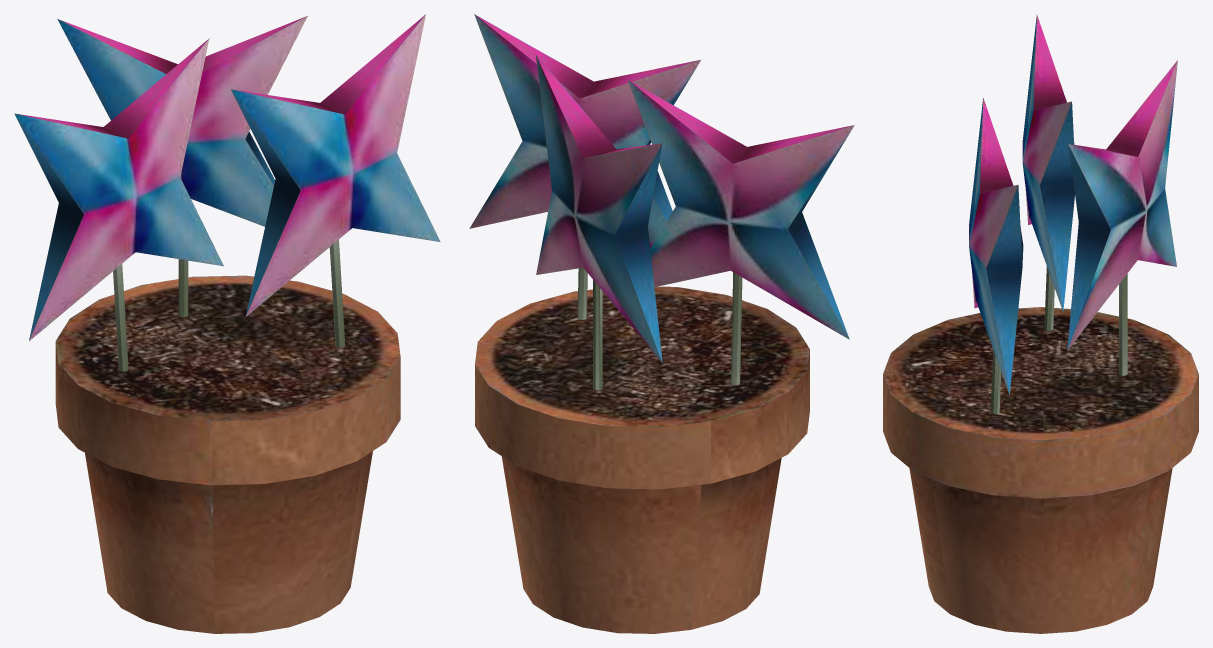
The model's file is clayPot_080505.dae.
The picture shows the model from 3 angles, left to right: view 1: azimuth 30°, elevation 25°; view 2: azimuth 150°, elevation 25°; view 3: azimuth 270°, elevation 25°; orthographic projection. The views are drawn at different scales.
Parts seen in each view (by area): view 1: pCylinder1, pCube3, pCube2, pCube1, pCylinder3, pCylinder4, pCylinder2; view 2: pCylinder1, pCube3, pCube1, pCube2, pCylinder4, pCylinder2; view 3: pCylinder1, pCube1, pCube2, pCube3, pCylinder2, pCylinder4, pCylinder3.
Boxes of the visible parts, x1,y1,x2,y2 form: pCylinder1: (55, 275, 400, 633); pCube3: (14, 38, 223, 340); pCube2: (231, 14, 440, 317); pCube1: (57, 16, 307, 226); pCylinder3: (329, 239, 345, 347); pCylinder4: (113, 264, 128, 371); pCylinder2: (178, 259, 188, 317); pCylinder1: (475, 286, 809, 633); pCube3: (628, 80, 854, 339); pCube1: (536, 55, 662, 363); pCube2: (469, 14, 700, 247); pCylinder4: (731, 272, 742, 385); pCylinder2: (593, 280, 602, 390); pCylinder1: (883, 307, 1198, 633); pCube1: (1067, 60, 1177, 350); pCube2: (969, 98, 1023, 394); pCube3: (1022, 14, 1074, 311); pCylinder2: (1119, 273, 1127, 375); pCylinder4: (1044, 266, 1054, 330); pCylinder3: (990, 350, 1001, 413).
Size of the model in its own units: 2.15 by 2.65 by 1.56.
